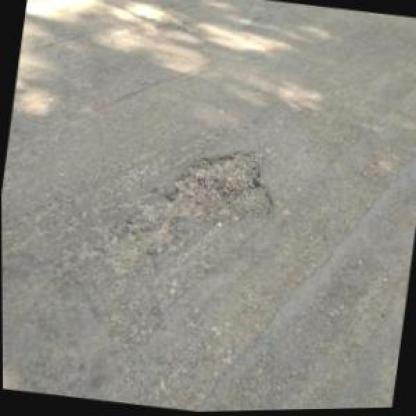pothole: (158, 141, 280, 240), (87, 212, 183, 283), (140, 18, 184, 40)
